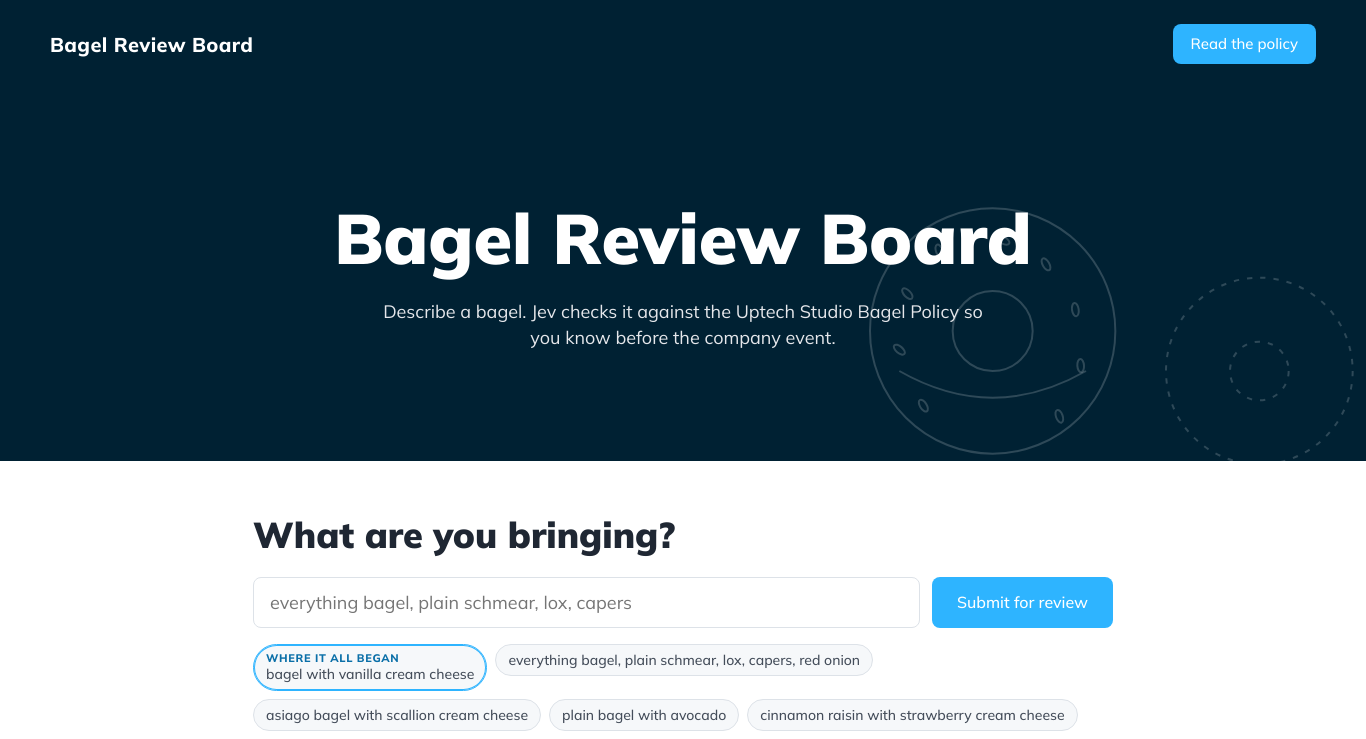
Test: reviewing another order › is offered after an error
Type "plain bagel" into the field labelled "What are you bringing?" at [586, 602], box top-left (253, 577), bottom-right (920, 628)
Then press Enter
(page scrolled)
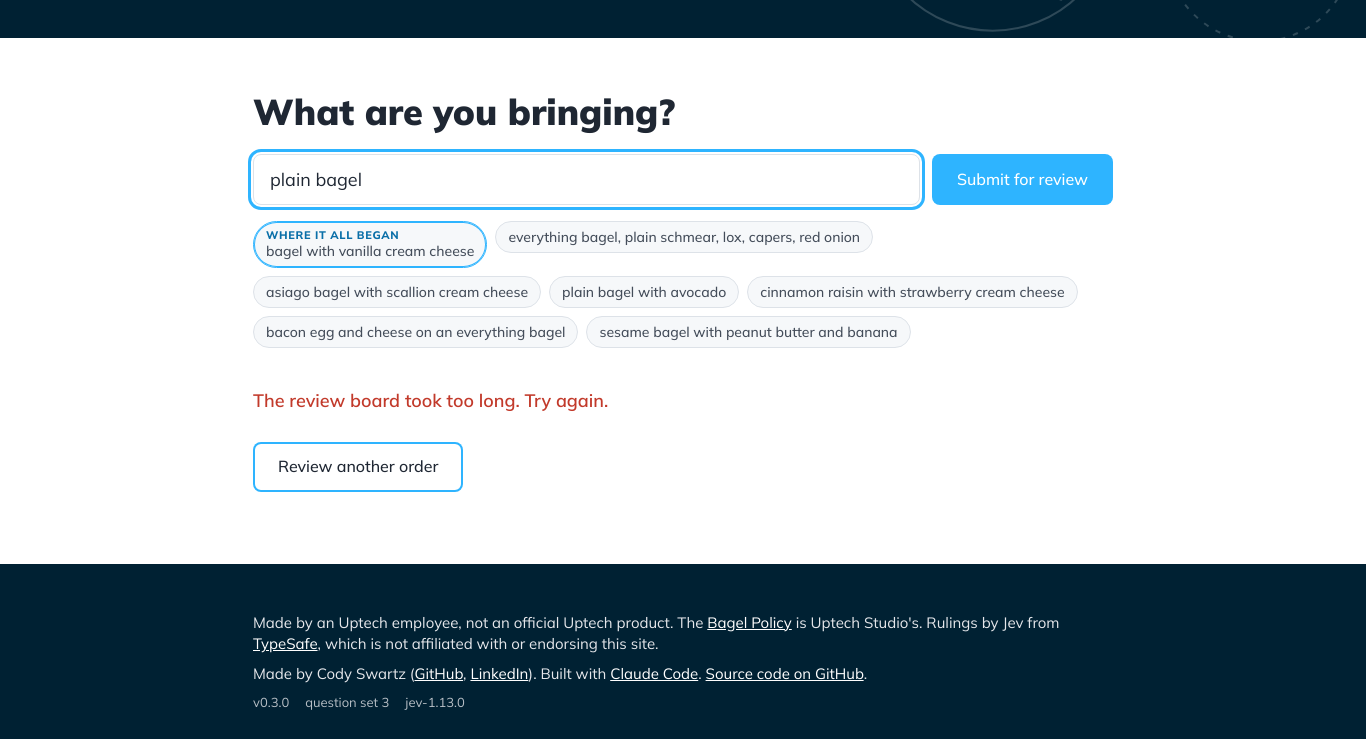
Check: the button "Review another order" is shown, box top-left (253, 442), bottom-right (463, 492)
